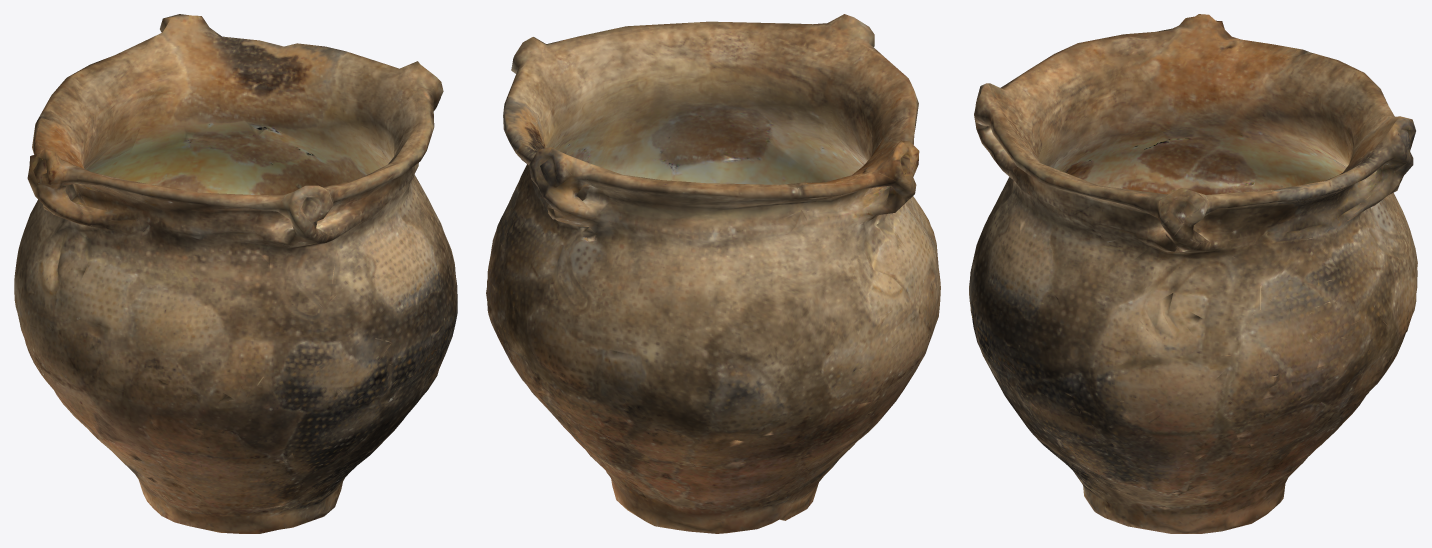
The picture shows the model from 3 angles, left to right: view 1: azimuth 30°, elevation 25°; view 2: azimuth 150°, elevation 25°; view 3: azimuth 270°, elevation 25°; orthographic projection. The views are drawn at different scales.
Parts seen in each view (by area): view 1: NM0173_low; view 2: NM0173_low; view 3: NM0173_low.
Boxes of the visible parts, x1,y1,x2,y2 form: NM0173_low: (14, 14, 457, 533); NM0173_low: (486, 14, 940, 533); NM0173_low: (969, 14, 1417, 533).
Size of the model in its own units: 255 by 243 by 249.
1 material, 1 textured.
